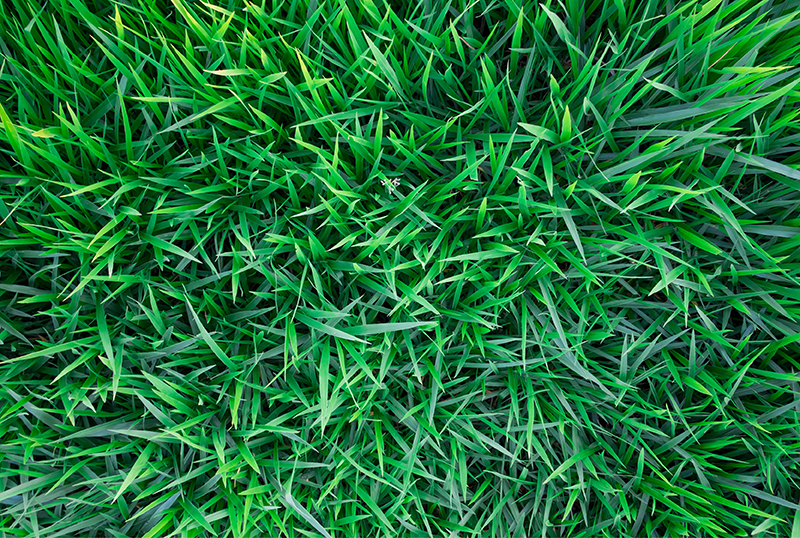grass: (1, 1, 800, 537)
